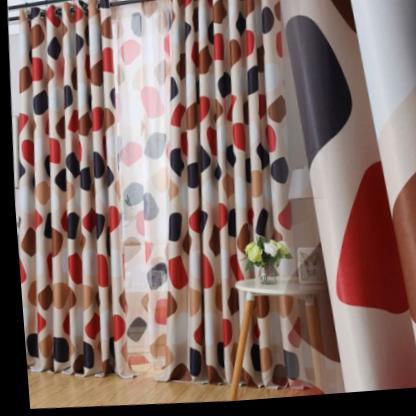Curtains: (13, 0, 281, 383)
